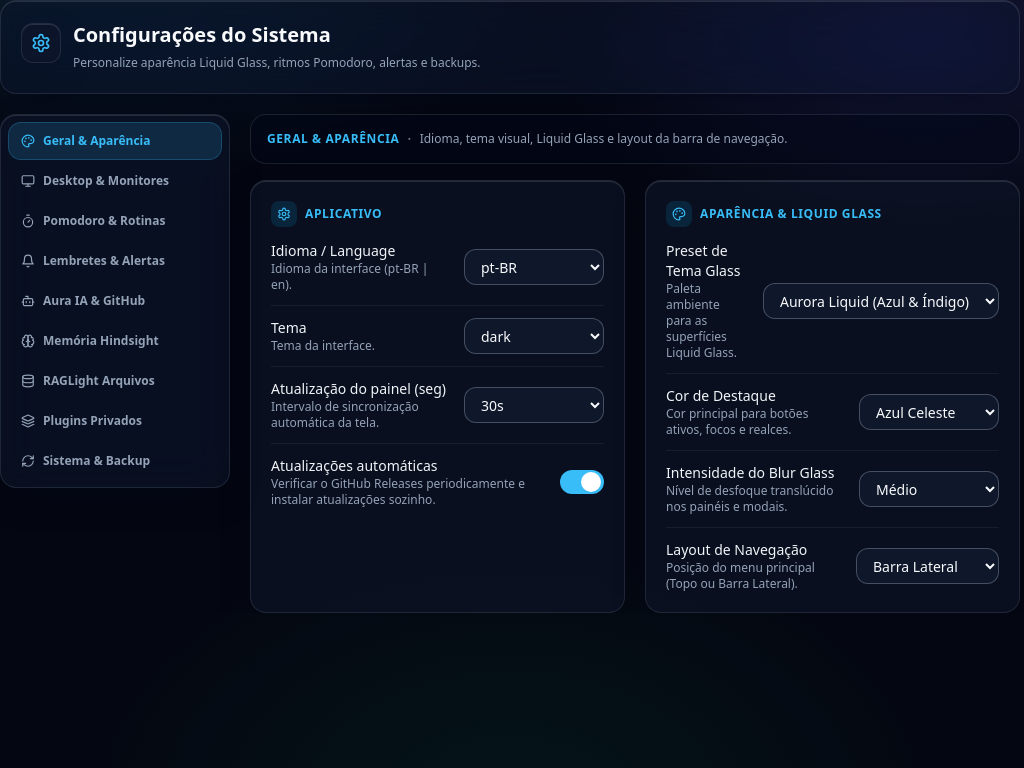
Test: SettingsPage › auto-saves boolean switches including reminders.block_screen
The image size is (1024, 768).
Later steps or results of the test are not shown.
Click the tab with test id "settings-tab-reminders" at [115, 260], box [9,242,221,278]
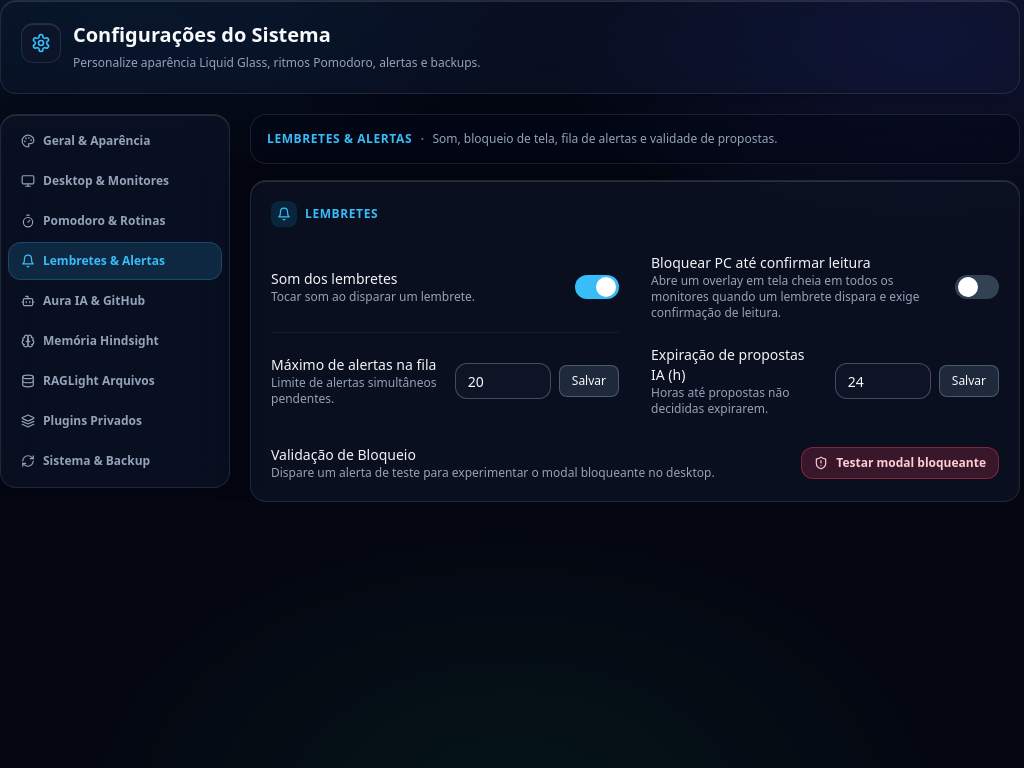
Click the switch named "Bloquear PC até confirmar leitura" at [977, 286], box [955,274,999,298]
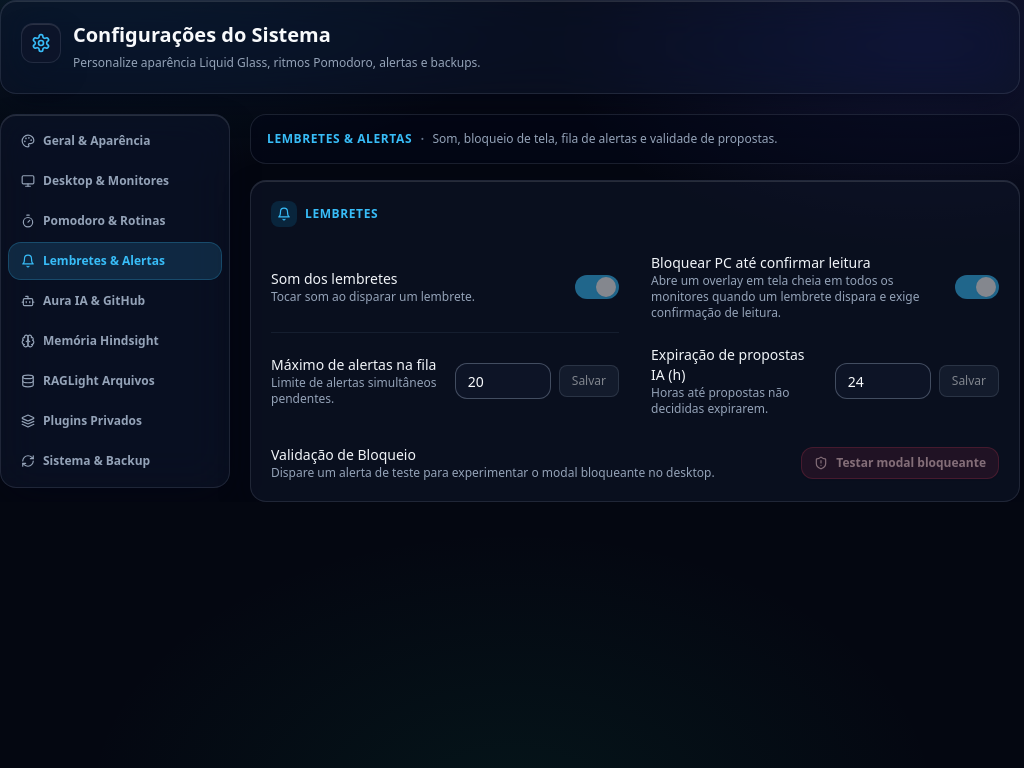
Now the switch named "Bloquear PC até confirmar leitura" is checked, box [955,274,999,298]
